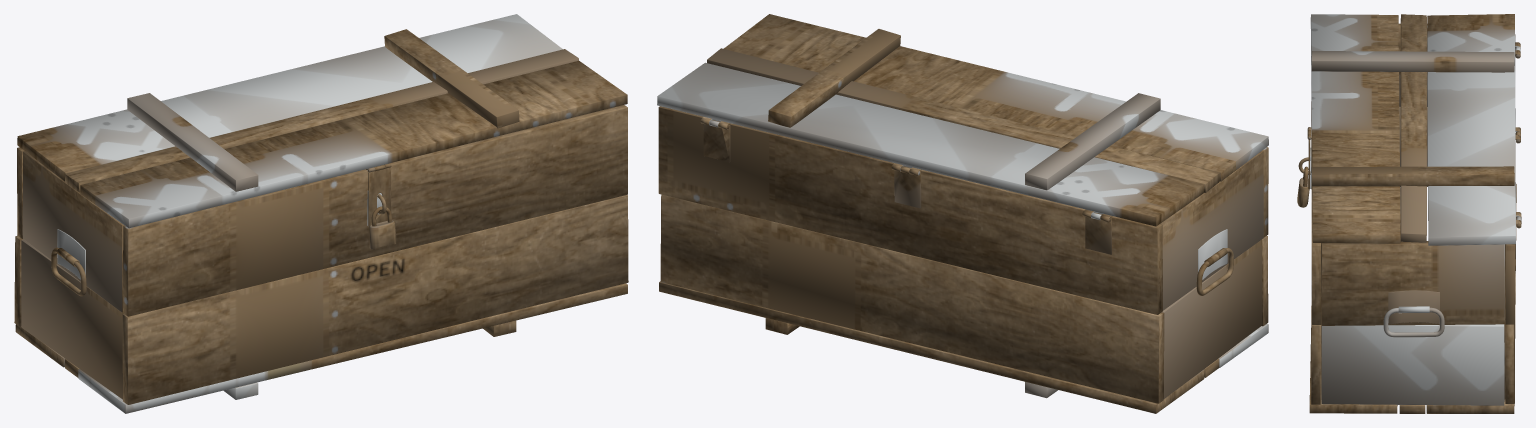
File: item_wooden_crate.glb
3 renders of one model, left to right at view 1: azimuth 30°, elevation 25°; view 2: azimuth 150°, elevation 25°; view 3: azimuth 270°, elevation 25°, orthographic. The views are drawn at different scales.
Parts seen in each view (by area): view 1: Cube.004; view 2: Cube.004; view 3: Cube.004.
Boxes of the visible parts, box(x1,y1,x2,y2) form: Cube.004: box(14, 14, 628, 413); Cube.004: box(657, 14, 1268, 413); Cube.004: box(1297, 14, 1521, 413).
Size of the model in its own units: 1 by 0.4105 by 0.4146.
1 material, 1 textured.
